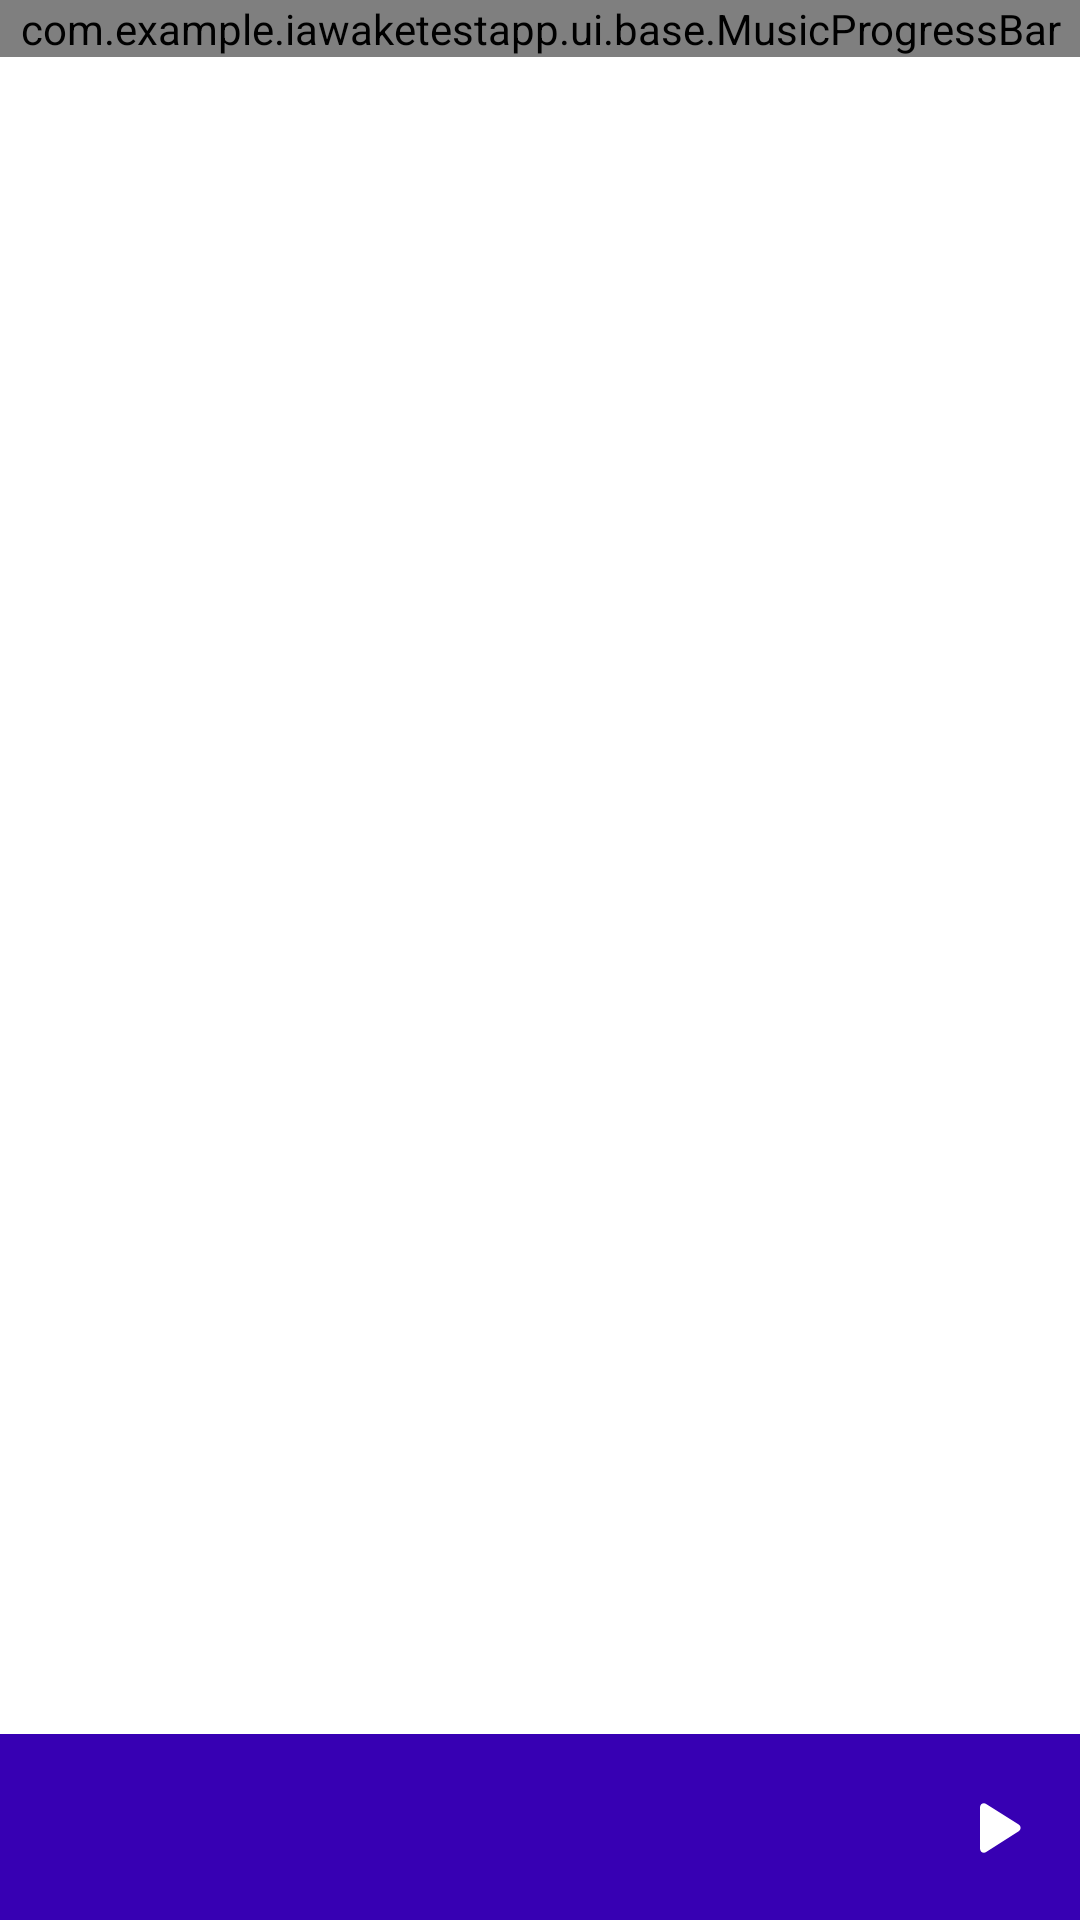

Named icons in this screenshot (1080 × 1920) and their centers, [x,y]:
play: [1000,1828]
